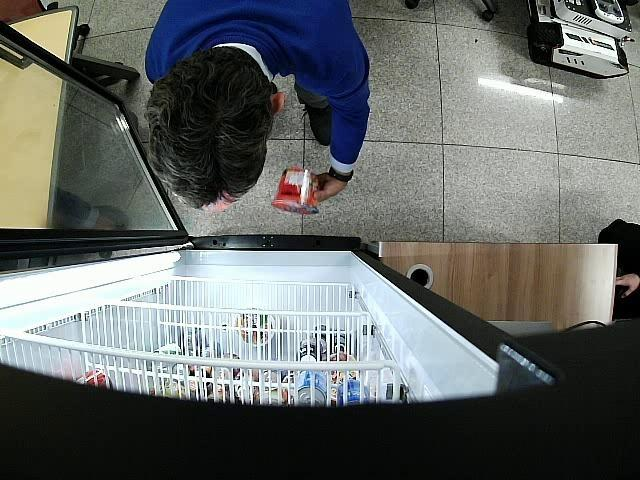01_ShinRamen_L: (271, 167, 320, 218)
